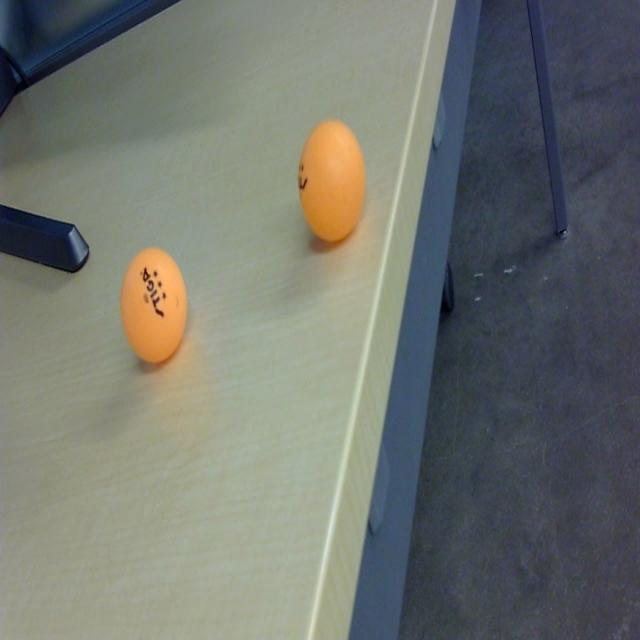ball: (296, 115, 367, 251), (120, 248, 189, 369)
